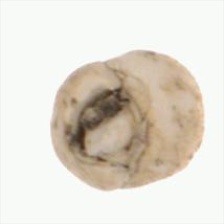L3: (73, 87, 145, 171)
L4: (51, 50, 204, 191)
